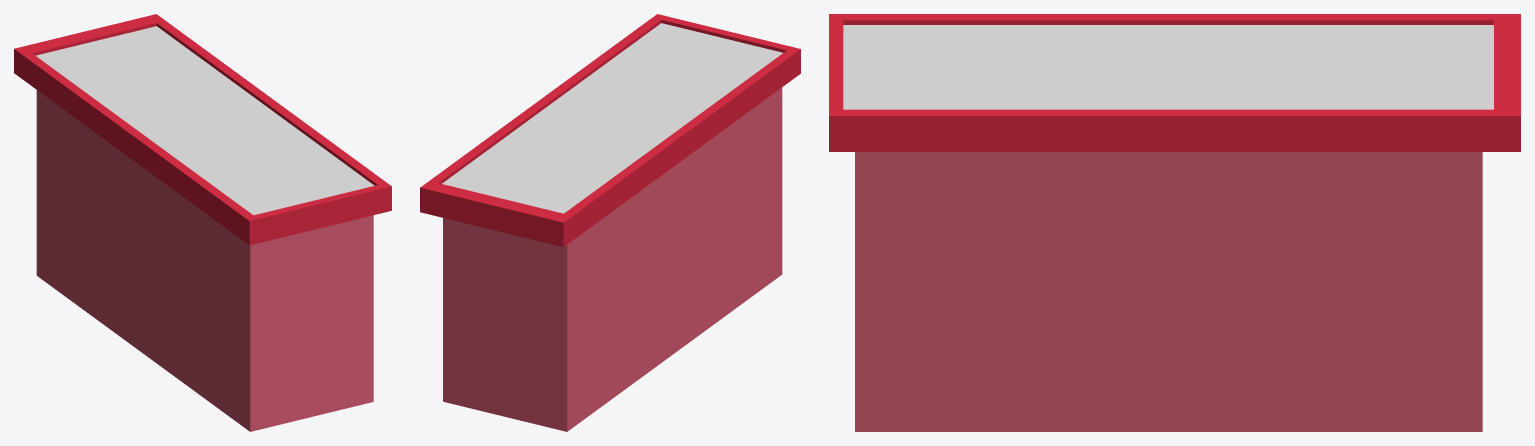
3 views of the same model, side by side, from view 1: azimuth 30°, elevation 25°; view 2: azimuth 150°, elevation 25°; view 3: azimuth 270°, elevation 25° (orthographic). The views are drawn at different scales.
Visible parts, largest first — view 1: Cube; view 2: Cube; view 3: Cube.
Part boxes in pixels (left/top/right/bottom): Cube: left=14, top=14, right=391, bottom=431; Cube: left=420, top=14, right=800, bottom=431; Cube: left=829, top=14, right=1520, bottom=431.
Bounding box in the file's own units: 1155 × 1702 × 3308.
